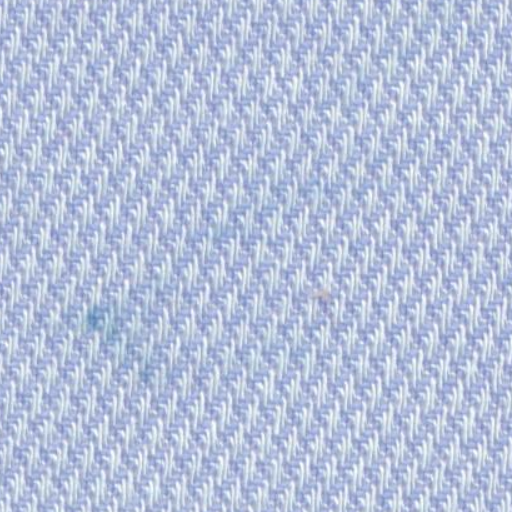WuZi: (41, 238, 189, 395), (304, 278, 344, 318)
